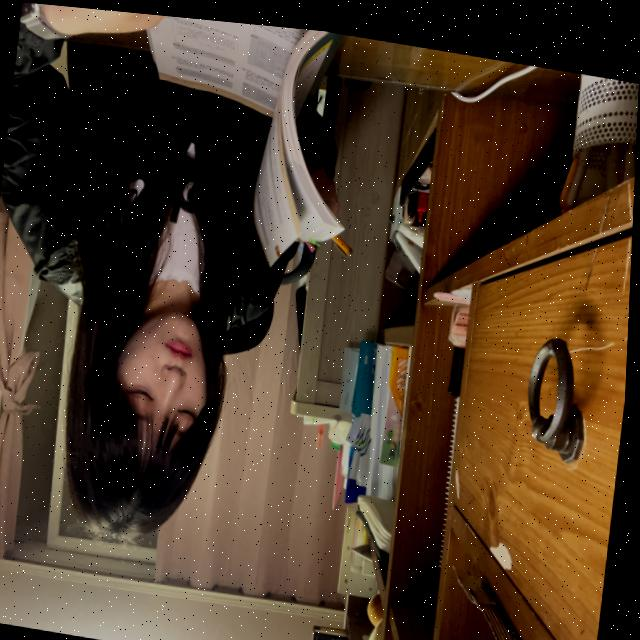studying-person: (0, 0, 384, 585)
